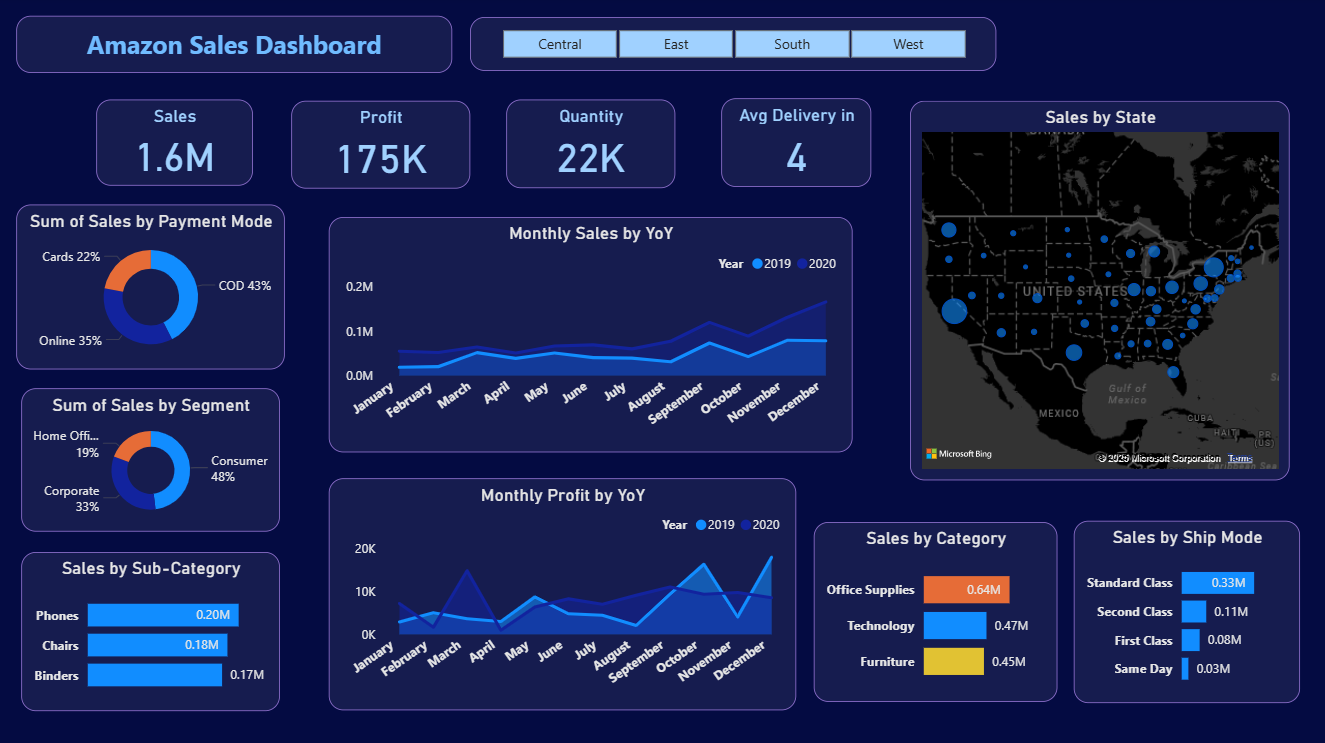

The dashboard page shown, as its layout file describes it:
{"tool":"powerbi","page":{"name":"Page 1","canvas":[1280,720],"ordinal":0},"visuals":[{"type":"barChart","title":"Sales by Category","fields":{"Category":["Amazon Store Sales Data xlsx - Sheet1 (1).Category"],"Y":["Sum(Amazon Store Sales Data xlsx - Sheet1 (1).Sales)"]},"box":[785.4,506.7,235.3,173.7],"z":0},{"type":"barChart","title":"Sales by Sub-Category","fields":{"Category":["Amazon Store Sales Data xlsx - Sheet1 (1).Sub-Category"],"Y":["Sum(Amazon Store Sales Data xlsx - Sheet1 (1).Sales)"]},"box":[20.5,535.7,249.7,153.2],"z":1000},{"type":"barChart","title":"Sales by Ship Mode","fields":{"Y":["Sum(Amazon Store Sales Data xlsx - Sheet1 (1).Sales)"],"Category":["Amazon Store Sales Data xlsx - Sheet1 (1).Ship Mode"]},"box":[1036.3,505.5,218.4,176.1],"z":2000},{"type":"areaChart","title":"Monthly Sales by YoY","fields":{"Y":["Sum(Amazon Store Sales Data xlsx - Sheet1 (1).Sales)"],"Series":["Amazon Store Sales Data xlsx - Sheet1 (1).Order Date.Variation.Date Hierarchy.Year"],"Category":["Amazon Store Sales Data xlsx - Sheet1 (1).Order Date.Variation.Date Hierarchy.Month","Amazon Store Sales Data xlsx - Sheet1 (1).Order Date.Variation.Date Hierarchy.Day"]},"box":[317.3,212.3,505.5,226.8],"z":3000},{"type":"areaChart","title":"Monthly Profit by YoY","fields":{"Series":["Amazon Store Sales Data xlsx - Sheet1 (1).Order Date.Variation.Date Hierarchy.Year"],"Category":["Amazon Store Sales Data xlsx - Sheet1 (1).Order Date.Variation.Date Hierarchy.Month","Amazon Store Sales Data xlsx - Sheet1 (1).Order Date.Variation.Date Hierarchy.Day"],"Y":["Sum(Amazon Store Sales Data xlsx - Sheet1 (1).Profit)"]},"box":[317.3,464.5,451.2,224.4],"z":4000},{"type":"donutChart","fields":{"Category":["Amazon Store Sales Data xlsx - Sheet1 (1).Segment"],"Y":["Sum(Amazon Store Sales Data xlsx - Sheet1 (1).Sales)"]},"box":[20.5,377.6,249.7,138.7],"z":5000},{"type":"donutChart","fields":{"Category":["Amazon Store Sales Data xlsx - Sheet1 (1).Payment Mode"],"Y":["Sum(Amazon Store Sales Data xlsx - Sheet1 (1).Sales)"]},"box":[15.7,200.3,259.4,159.3],"z":6000},{"type":"slicer","fields":{"Values":["Amazon Store Sales Data xlsx - Sheet1 (1).Region"]},"box":[453.6,19.3,507.9,51.9],"z":7000},{"type":"textbox","box":[15.7,18.1,421,55.5],"z":8000},{"type":"card","title":"Sales","fields":{"Values":["Sum(Amazon Store Sales Data xlsx - Sheet1 (1).Sales)"]},"box":[92.9,98.9,150.8,83.2],"z":9000},{"type":"card","title":"Profit","fields":{"Values":["Sum(Amazon Store Sales Data xlsx - Sheet1 (1).Profit)"]},"box":[281.1,100.1,172.5,84.5],"z":10000},{"type":"card","title":"Quantity","fields":{"Values":["Sum(Amazon Store Sales Data xlsx - Sheet1 (1).Quantity)"]},"box":[488.6,98.9,162.9,85.7],"z":11000},{"type":"card","title":"Avg Delivery in","fields":{"Values":["Avg(Amazon Store Sales Data xlsx - Sheet1 (1).AvgDelivery)"]},"box":[696.1,97.7,144.8,85.7],"z":12000},{"type":"map","title":"Sales by State","fields":{"Category":["Amazon Store Sales Data xlsx - Sheet1 (1).State"],"Size":["Sum(Amazon Store Sales Data xlsx - Sheet1 (1).Sales)"]},"box":[878.3,100.1,366.8,366.8],"z":13000}]}

Visuals, with their boxes in screenshot pixels (x1, y1, x2, y2), scaled from the page's 1280x720 canvas onto the 1325x743 screenshot:
"Sales by Category" barChart: [x1=813, y1=523, x2=1057, y2=702]
"Sales by Sub-Category" barChart: [x1=21, y1=553, x2=280, y2=711]
"Sales by Ship Mode" barChart: [x1=1073, y1=522, x2=1299, y2=703]
"Monthly Sales by YoY" areaChart: [x1=328, y1=219, x2=852, y2=453]
"Monthly Profit by YoY" areaChart: [x1=328, y1=479, x2=796, y2=711]
donutChart - Amazon Store Sales Data xlsx - Sheet1 (1).Segment x Sum(Amazon Store Sales Data xlsx - Sheet1 (1).Sales): [x1=21, y1=390, x2=280, y2=533]
donutChart - Amazon Store Sales Data xlsx - Sheet1 (1).Payment Mode x Sum(Amazon Store Sales Data xlsx - Sheet1 (1).Sales): [x1=16, y1=207, x2=285, y2=371]
slicer - Amazon Store Sales Data xlsx - Sheet1 (1).Region: [x1=470, y1=20, x2=995, y2=73]
textbox: [x1=16, y1=19, x2=452, y2=76]
"Sales" card: [x1=96, y1=102, x2=252, y2=188]
"Profit" card: [x1=291, y1=103, x2=470, y2=190]
"Quantity" card: [x1=506, y1=102, x2=674, y2=190]
"Avg Delivery in" card: [x1=721, y1=101, x2=870, y2=189]
"Sales by State" map: [x1=909, y1=103, x2=1289, y2=482]
